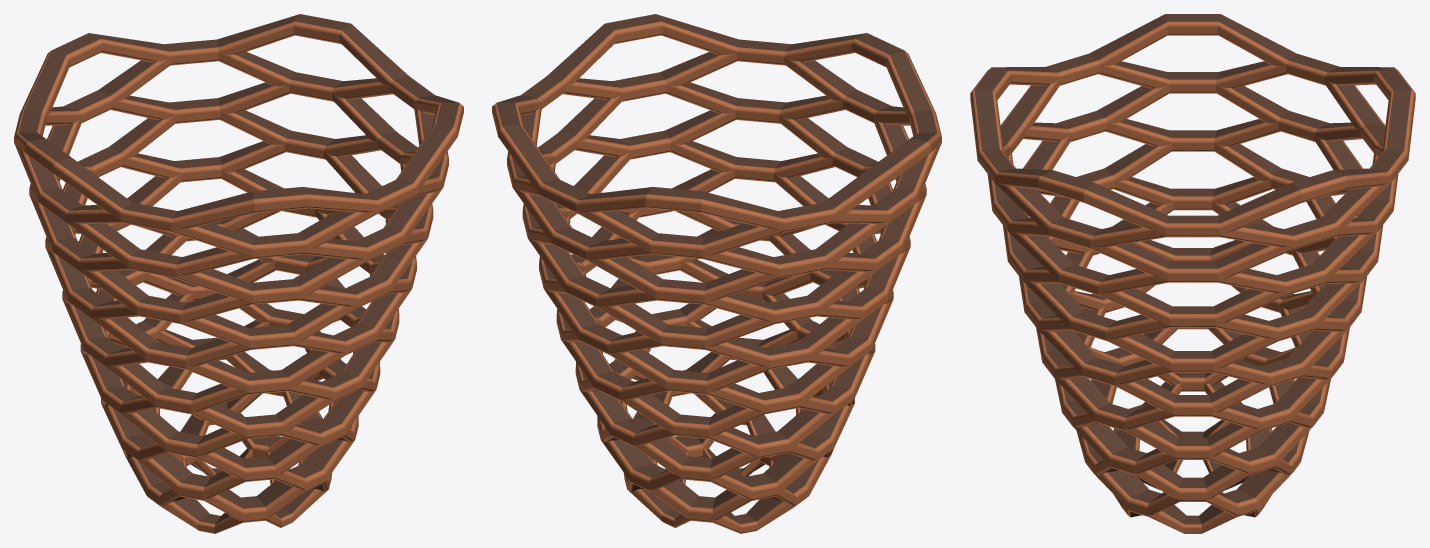
File: vessel.glb
3 views of the same model, side by side, from view 1: azimuth 30°, elevation 25°; view 2: azimuth 150°, elevation 25°; view 3: azimuth 270°, elevation 25° (orthographic).
Parts seen in each view (by area): view 1: Vessel; view 2: Vessel; view 3: Vessel.
Boxes of the visible parts, x1,y1,x2,y2 form: Vessel: [14, 14, 463, 533]; Vessel: [492, 14, 941, 533]; Vessel: [970, 14, 1415, 533].
Bounding box in the file's own units: 46.08 × 45.7 × 46.36.
